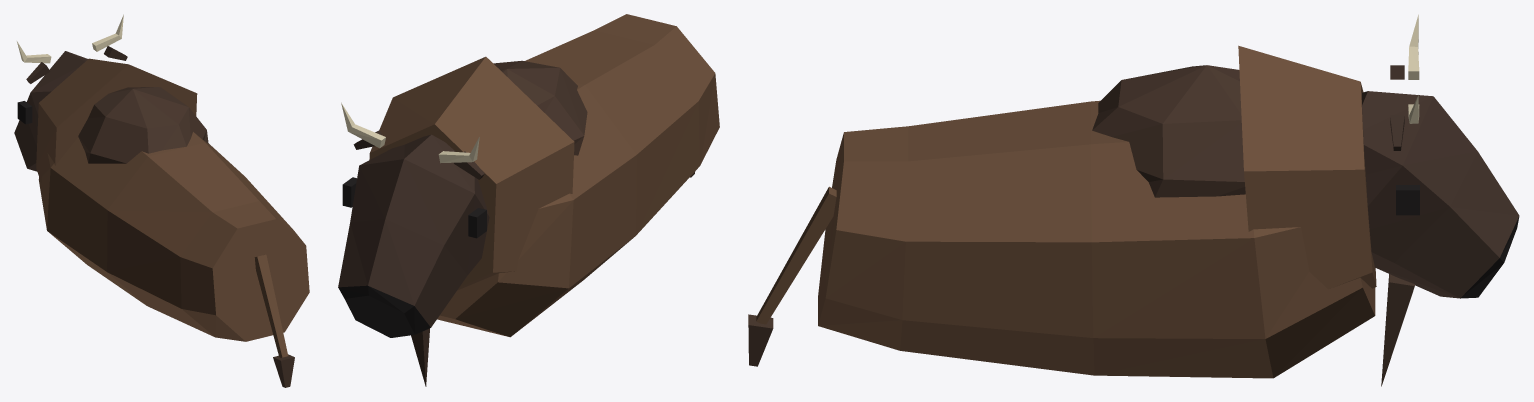
Rendered from animal_bison.obj.
The picture shows the model from 3 angles, left to right: view 1: azimuth 30°, elevation 25°; view 2: azimuth 150°, elevation 25°; view 3: azimuth 270°, elevation 25°; orthographic projection. The views are drawn at different scales.
Visible parts, largest first — view 1: animal_bison; view 2: animal_bison; view 3: animal_bison.
Boxes of the visible parts, left/top/right/bottom form: animal_bison: left=14, top=14, right=309, bottom=387; animal_bison: left=338, top=14, right=719, bottom=386; animal_bison: left=748, top=14, right=1519, bottom=386.
Bounding box in the file's own units: 0.5946 × 0.8665 × 1.77.
